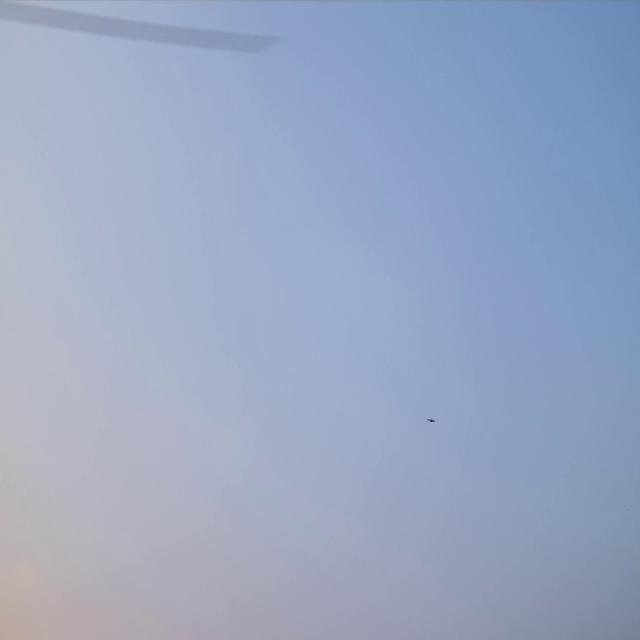UAV: (425, 416, 437, 423)
